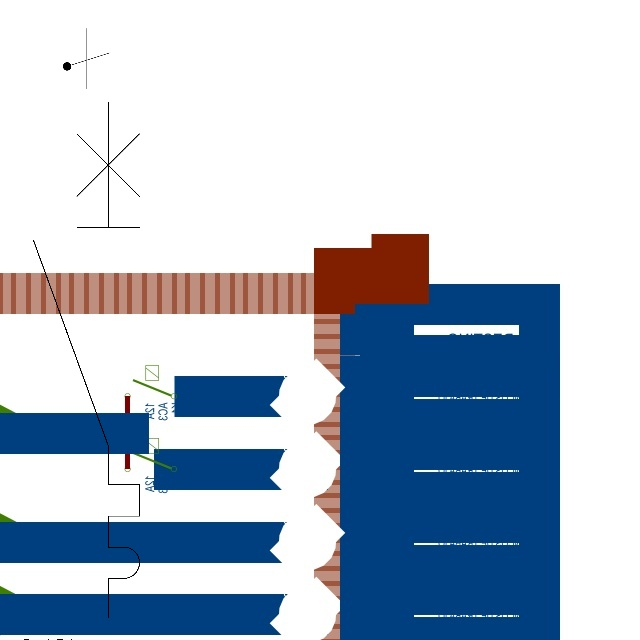interruptor_termomagnetico: (20, 89, 153, 631)
